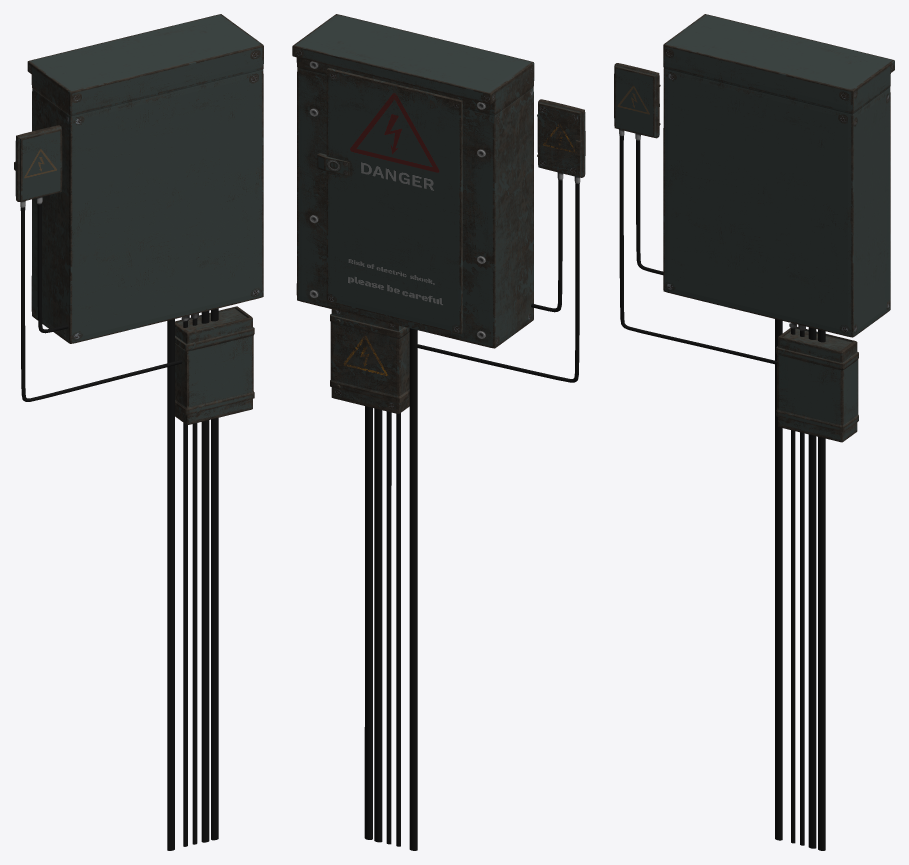
Rendered from electricbox.obj.
3 renders of one model, left to right at view 1: azimuth 30°, elevation 25°; view 2: azimuth 150°, elevation 25°; view 3: azimuth 330°, elevation 25°, orthographic. The views are drawn at different scales.
Parts seen in each view (by area): view 1: Bolt2_loy_Material_0_6; view 2: Bolt2_loy_Material_0_6; view 3: Bolt2_loy_Material_0_6.
Part boxes in pixels (x1,y1,x2,y2): Bolt2_loy_Material_0_6: (14,14,263,850); Bolt2_loy_Material_0_6: (292,14,585,850); Bolt2_loy_Material_0_6: (614,14,894,850).
Bounding box in the file's own units: 0.4062 × 1.25 × 0.125.
1 material, 1 textured.
